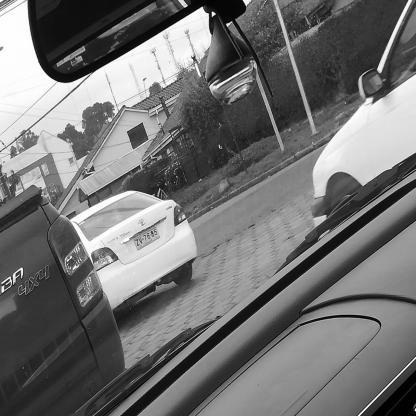Patente: (132, 226, 162, 252)
